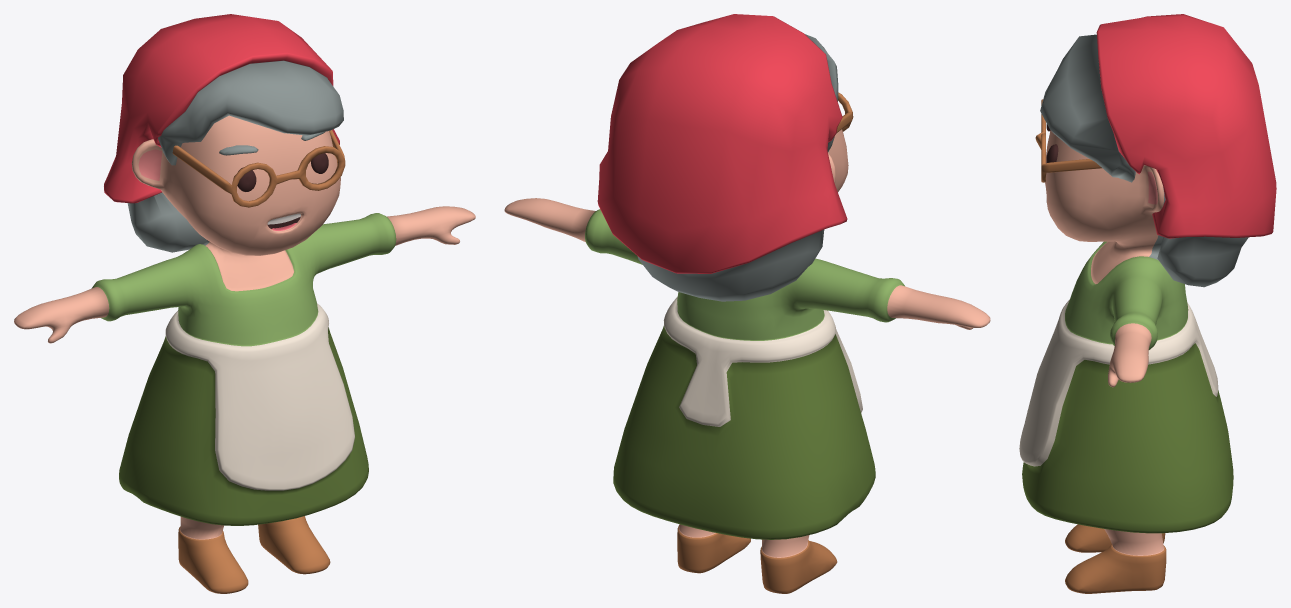
Rendered from old_female_farmer_01.fbx.
3 views of the same model, side by side, from view 1: azimuth 30°, elevation 25°; view 2: azimuth 150°, elevation 25°; view 3: azimuth 270°, elevation 25° (orthographic). The views are drawn at different scales.
Visible parts, largest first — view 1: old_female_farmer_01; view 2: old_female_farmer_01; view 3: old_female_farmer_01.
Boxes of the visible parts, x1,y1,x2,y2 form: old_female_farmer_01: [14, 14, 475, 593]; old_female_farmer_01: [504, 14, 990, 593]; old_female_farmer_01: [1019, 14, 1276, 593].
Size of the model in its own units: 4.91 by 5.37 by 2.34.
